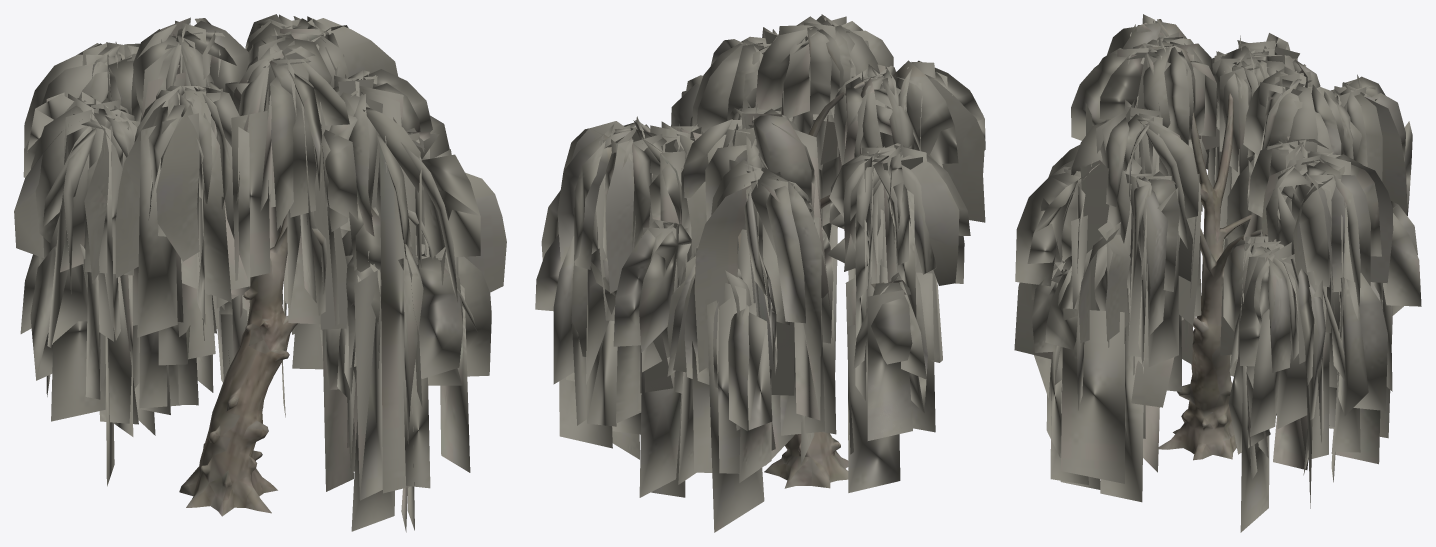
The model's file is willow_meshy.glb.
3 renders of one model, left to right at view 1: azimuth 30°, elevation 25°; view 2: azimuth 150°, elevation 25°; view 3: azimuth 270°, elevation 25°, orthographic. The views are drawn at different scales.
Size of the model in its own units: 0.9589 by 1 by 0.904.
Materials: 1 (1 with a texture image).
